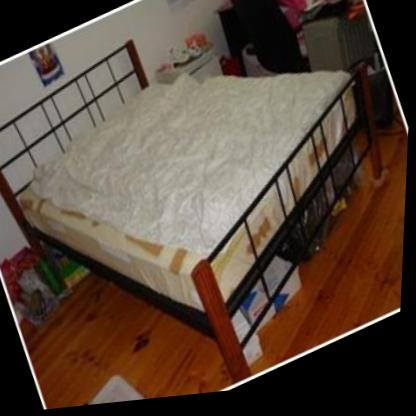Bed: (0, 42, 387, 385)
